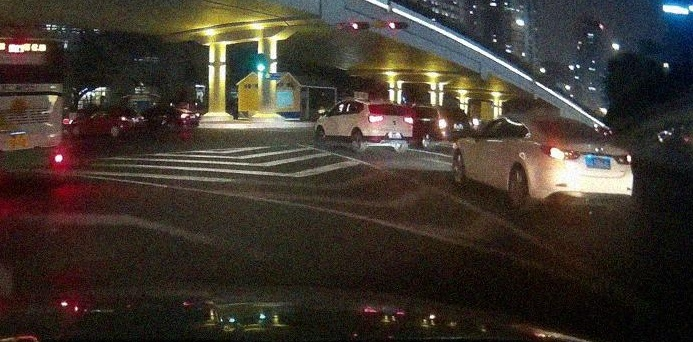L_light: (540, 144, 580, 160), (368, 115, 384, 123)
R_light: (611, 153, 633, 165), (403, 115, 413, 124)
T_light: (383, 103, 395, 107), (565, 121, 581, 123)
night-left: (530, 117, 635, 216)
night-no: (365, 100, 414, 154)
